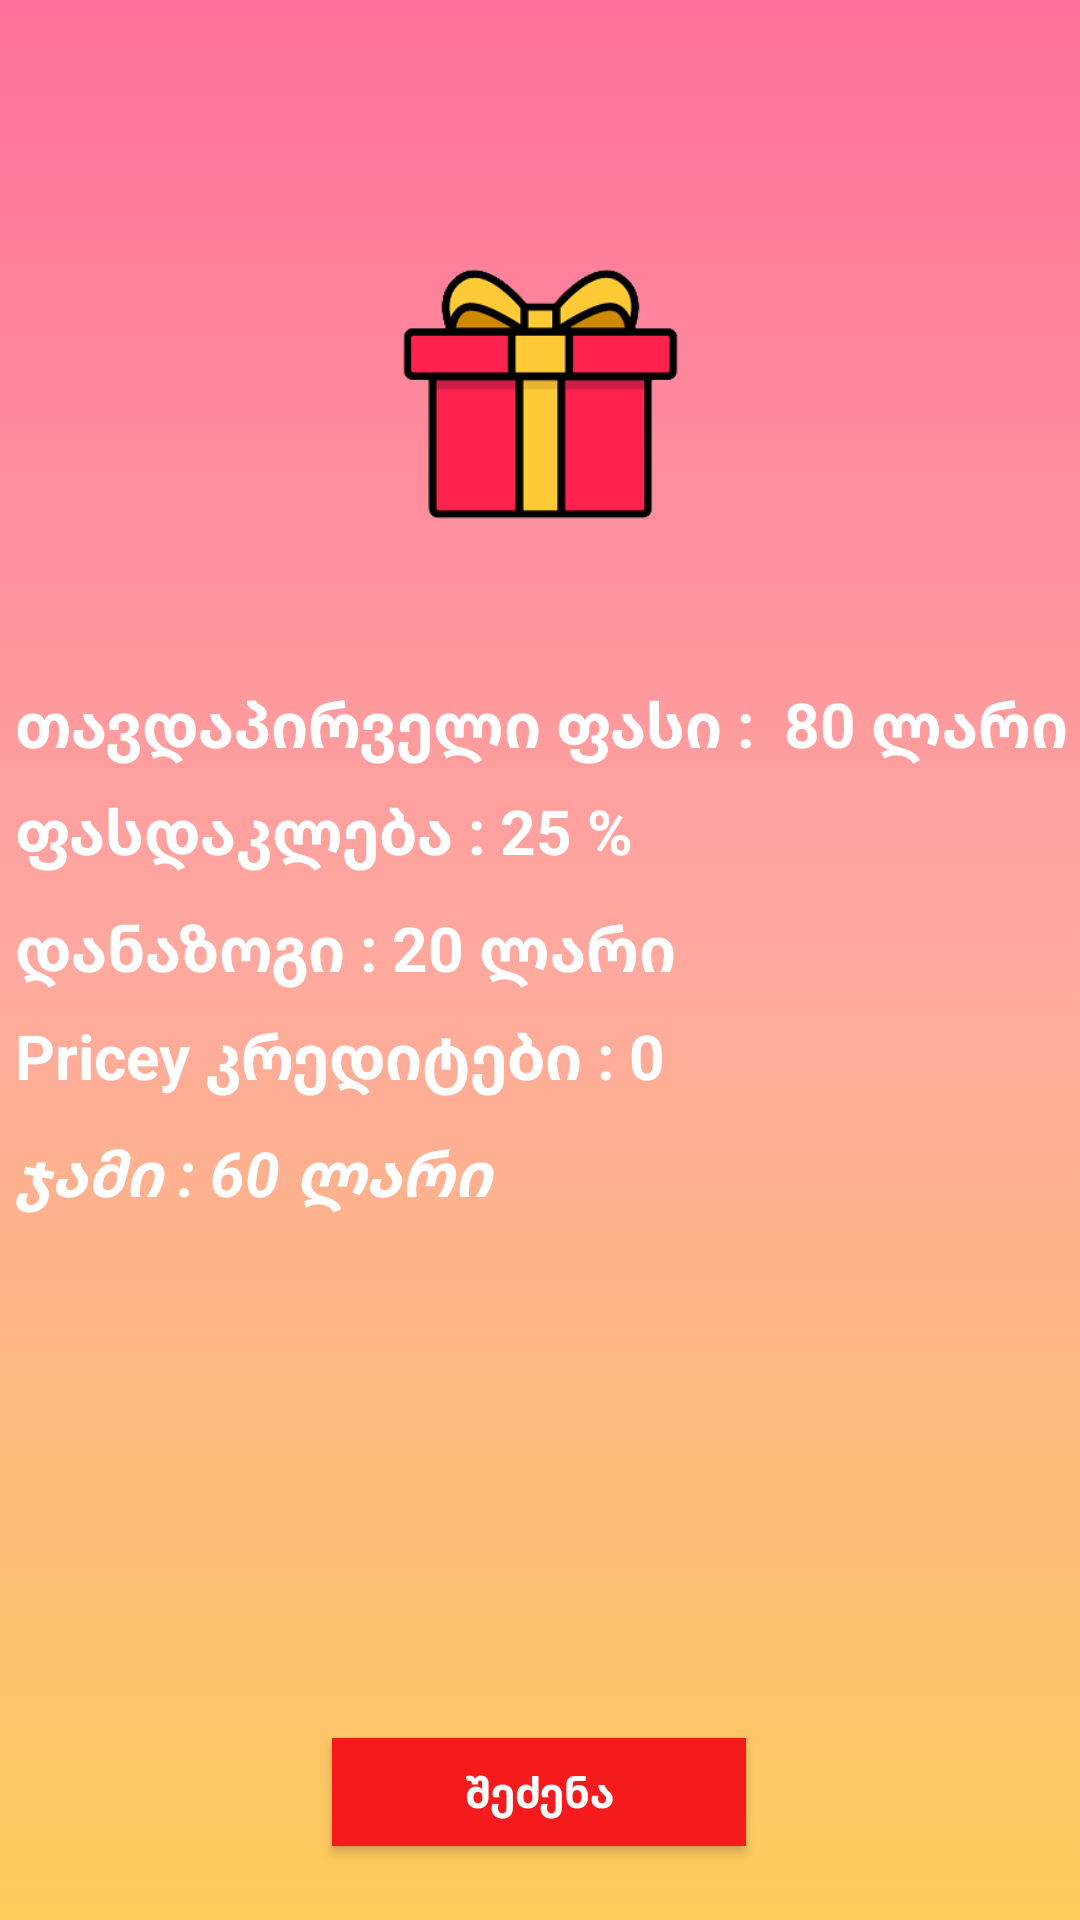

Point at icon controls on the screen. Image size 1080 x 1920, points as (x,y).
gift: (540,394)
